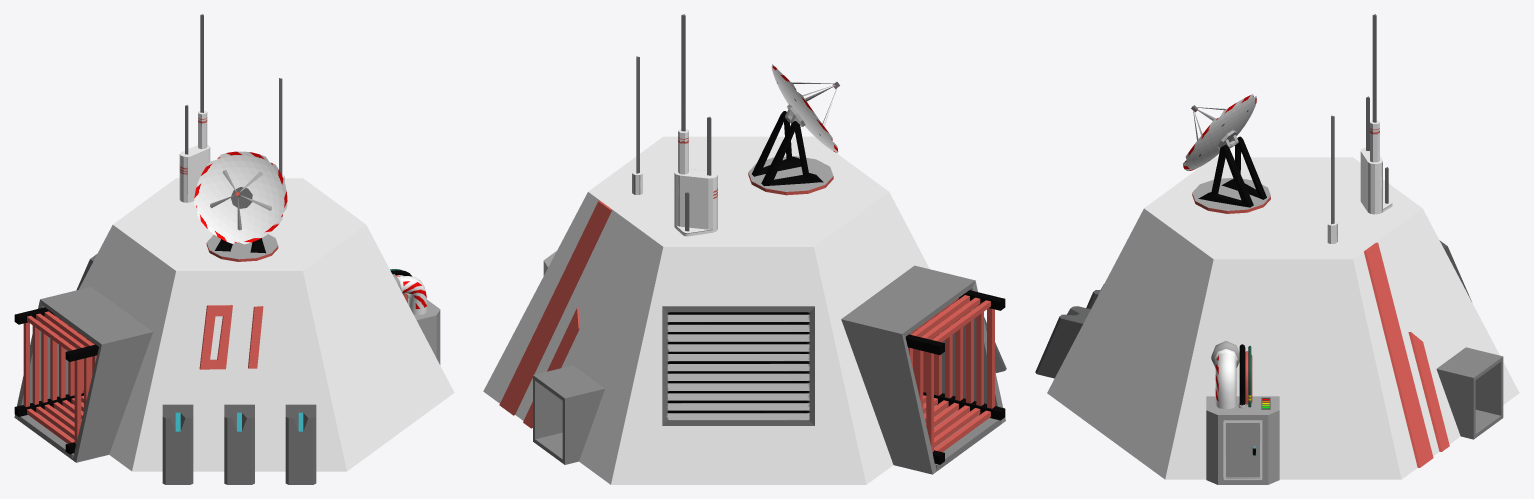
The model's file is 1stQG.glb.
The picture shows the model from 3 angles, left to right: view 1: azimuth 30°, elevation 25°; view 2: azimuth 150°, elevation 25°; view 3: azimuth 270°, elevation 25°; orthographic projection. The views are drawn at different scales.
Parts seen in each view (by area): view 1: MainHub, BHangarGrid, Dish, Cylinder.004, Base, PumpPipes, PumpBox; view 2: MainHub, BHangarGrid, Cylinder.004, Base, Dish, Cylinder.006; view 3: MainHub, PumpBox, Base, Cylinder.004, Dish, PumpPipes, Cylinder.006.
Part boxes in pixels (x1=…): MainHub: x1=14, y1=178, x2=454, y2=484; BHangarGrid: x1=14, y1=307, x2=98, y2=454; Dish: x1=194, y1=151, x2=287, y2=244; Cylinder.004: x1=179, y1=14, x2=210, y2=202; Base: x1=206, y1=234, x2=278, y2=261; PumpPipes: x1=390, y1=269, x2=427, y2=314; PumpBox: x1=408, y1=295, x2=440, y2=364; MainHub: x1=483, y1=136, x2=1006, y2=484; BHangarGrid: x1=905, y1=290, x2=1005, y2=464; Cylinder.004: x1=674, y1=14, x2=717, y2=236; Base: x1=748, y1=111, x2=833, y2=195; Dish: x1=771, y1=64, x2=839, y2=152; Cylinder.006: x1=632, y1=56, x2=642, y2=194; MainHub: x1=1035, y1=157, x2=1519, y2=479; PumpBox: x1=1206, y1=396, x2=1279, y2=484; Base: x1=1192, y1=136, x2=1270, y2=213; Cylinder.004: x1=1360, y1=14, x2=1392, y2=214; Dish: x1=1183, y1=94, x2=1256, y2=170; PumpPipes: x1=1211, y1=341, x2=1252, y2=409; Cylinder.006: x1=1327, y1=115, x2=1337, y2=243.
Size of the model in its own units: 2.69 by 2.4 by 2.77.
2 materials, 2 textured.
